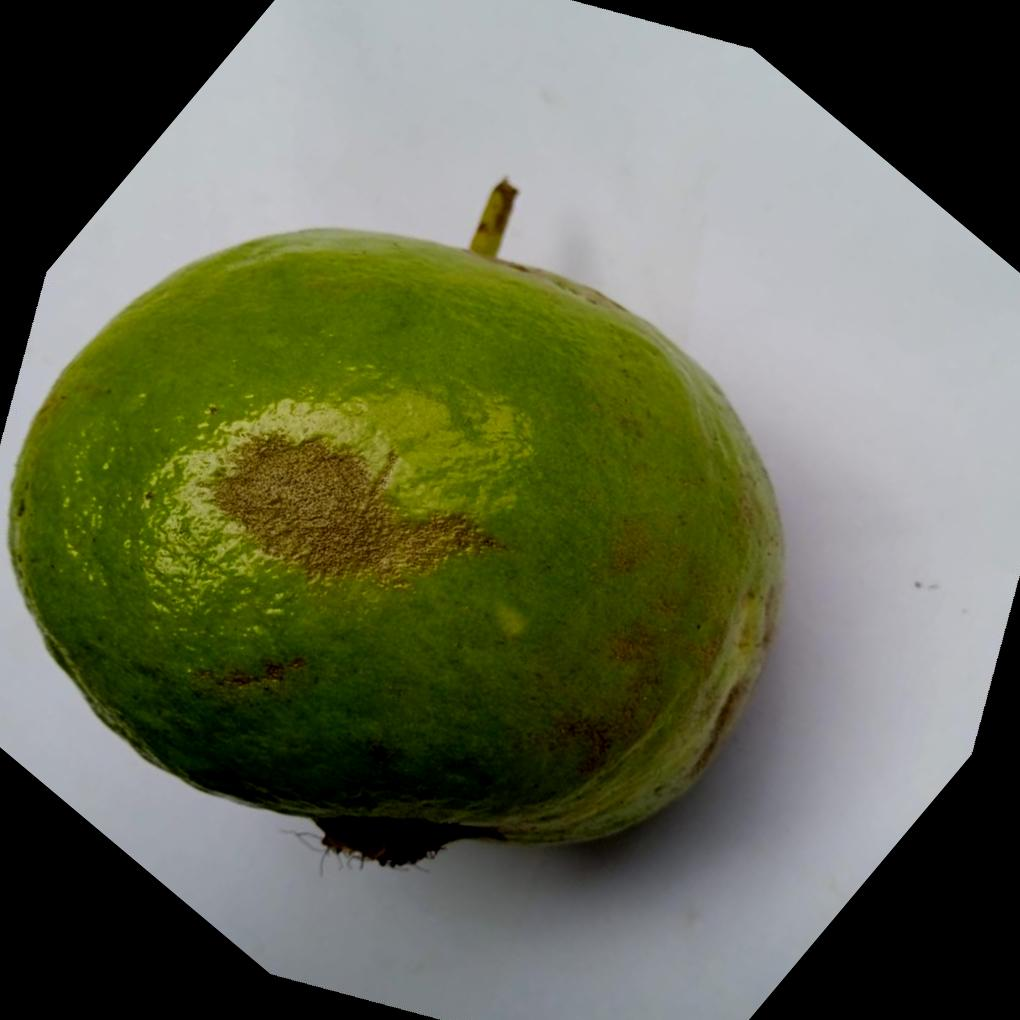FreshGuava: (8, 185, 788, 865)
